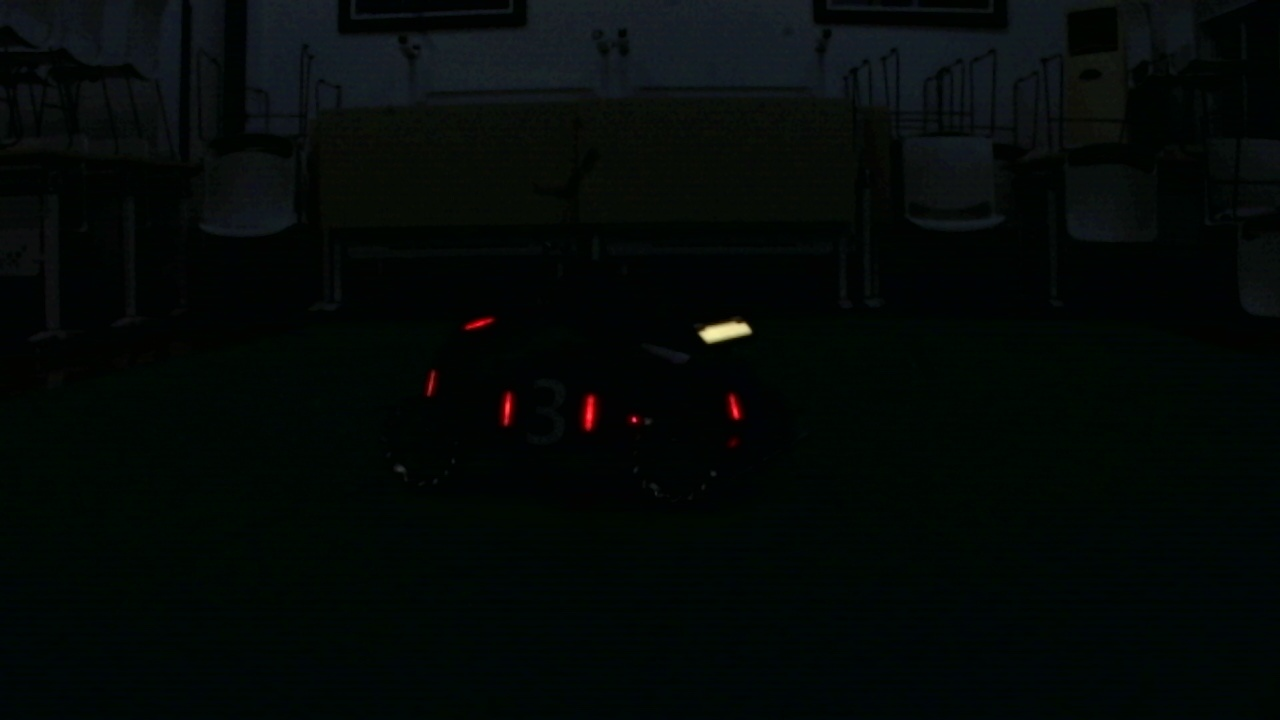lamp: (583, 387, 598, 428), (499, 386, 513, 429), (418, 362, 433, 400), (725, 389, 740, 425)
pair1: (500, 391, 597, 431)
